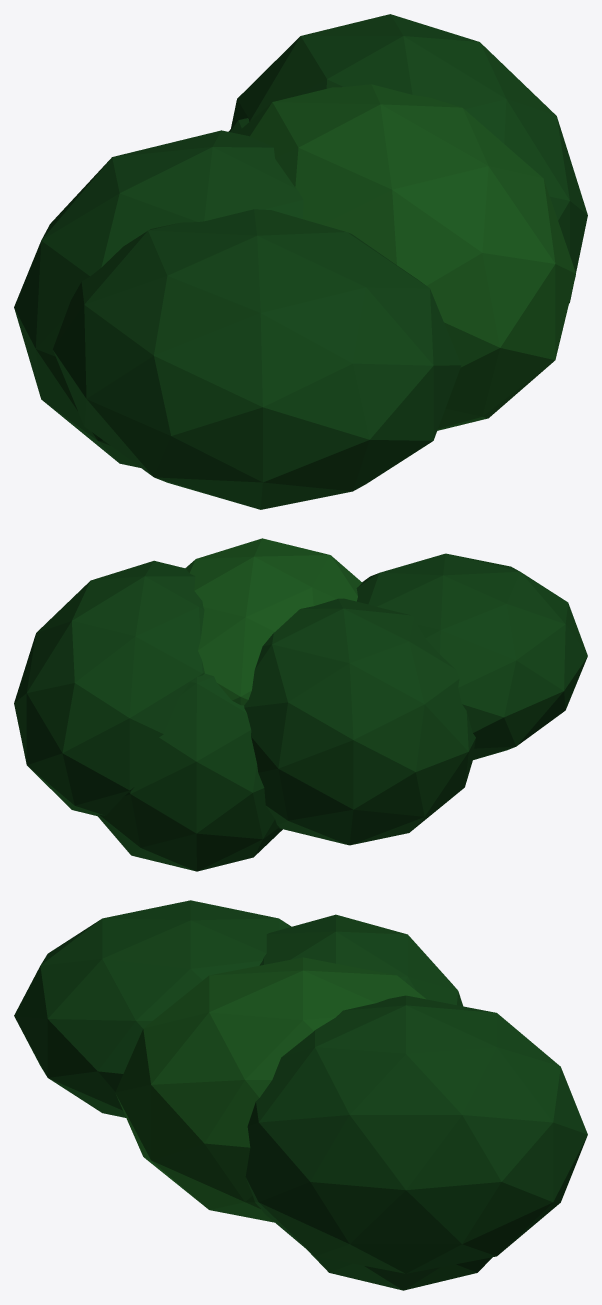
Rendered from Bush_A.obj.
The picture shows the model from 3 angles, top to bottom: view 1: azimuth 30°, elevation 25°; view 2: azimuth 150°, elevation 25°; view 3: azimuth 270°, elevation 25°; orthographic projection. The views are drawn at different scales.
Visible parts, largest first — view 1: BushClump2, BushClump0, BushClump3, BushClump1; view 2: BushClump3, BushClump1, BushClump2, BushClump4, BushClump0; view 3: BushClump1, BushClump0, BushClump2, BushClump3, BushClump4.
Part boxes in pixels (left/top/right/bottom): BushClump2: left=53, top=209, right=461, bottom=509; BushClump0: left=236, top=84, right=575, bottom=430; BushClump3: left=14, top=130, right=303, bottom=467; BushClump1: left=231, top=14, right=587, bottom=303; BushClump3: left=244, top=598, right=475, bottom=845; BushClump1: left=14, top=560, right=204, bottom=815; BushClump2: left=356, top=553, right=587, bottom=759; BushClump4: left=96, top=673, right=282, bottom=871; BushClump0: left=185, top=538, right=362, bottom=705; BushClump1: left=245, top=995, right=587, bottom=1273; BushClump0: left=115, top=957, right=426, bottom=1222; BushClump2: left=14, top=900, right=291, bottom=1117; BushClump3: left=259, top=914, right=462, bottom=1006; BushClump4: left=307, top=1250, right=492, bottom=1290.
Size of the model in its own units: 1.46 by 0.8981 by 1.54.
